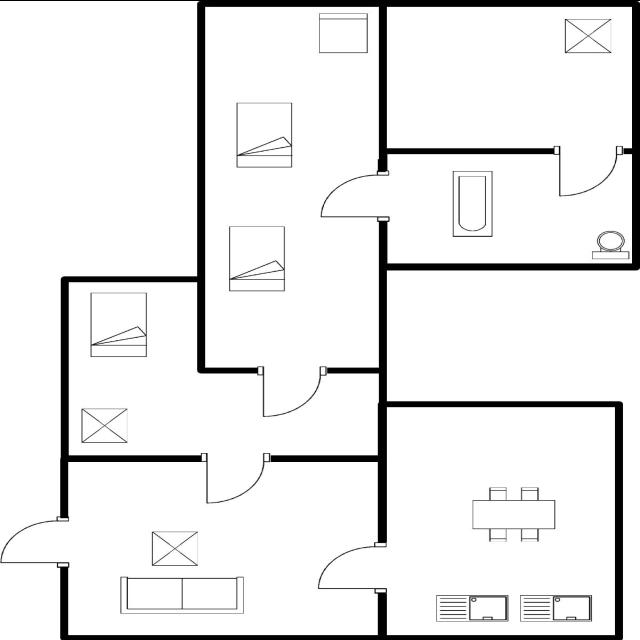bed: (83, 287, 153, 360), (230, 98, 298, 172), (224, 222, 290, 296)
coffee_table: (561, 14, 615, 56), (77, 405, 133, 445), (148, 528, 202, 568)
dining_table: (468, 483, 560, 545)
large_sink: (586, 229, 632, 261)
large_sofa: (116, 573, 248, 618)
sink: (432, 590, 514, 626), (514, 590, 598, 624)
small_sofa: (314, 11, 372, 56)
tub: (447, 168, 497, 240)
